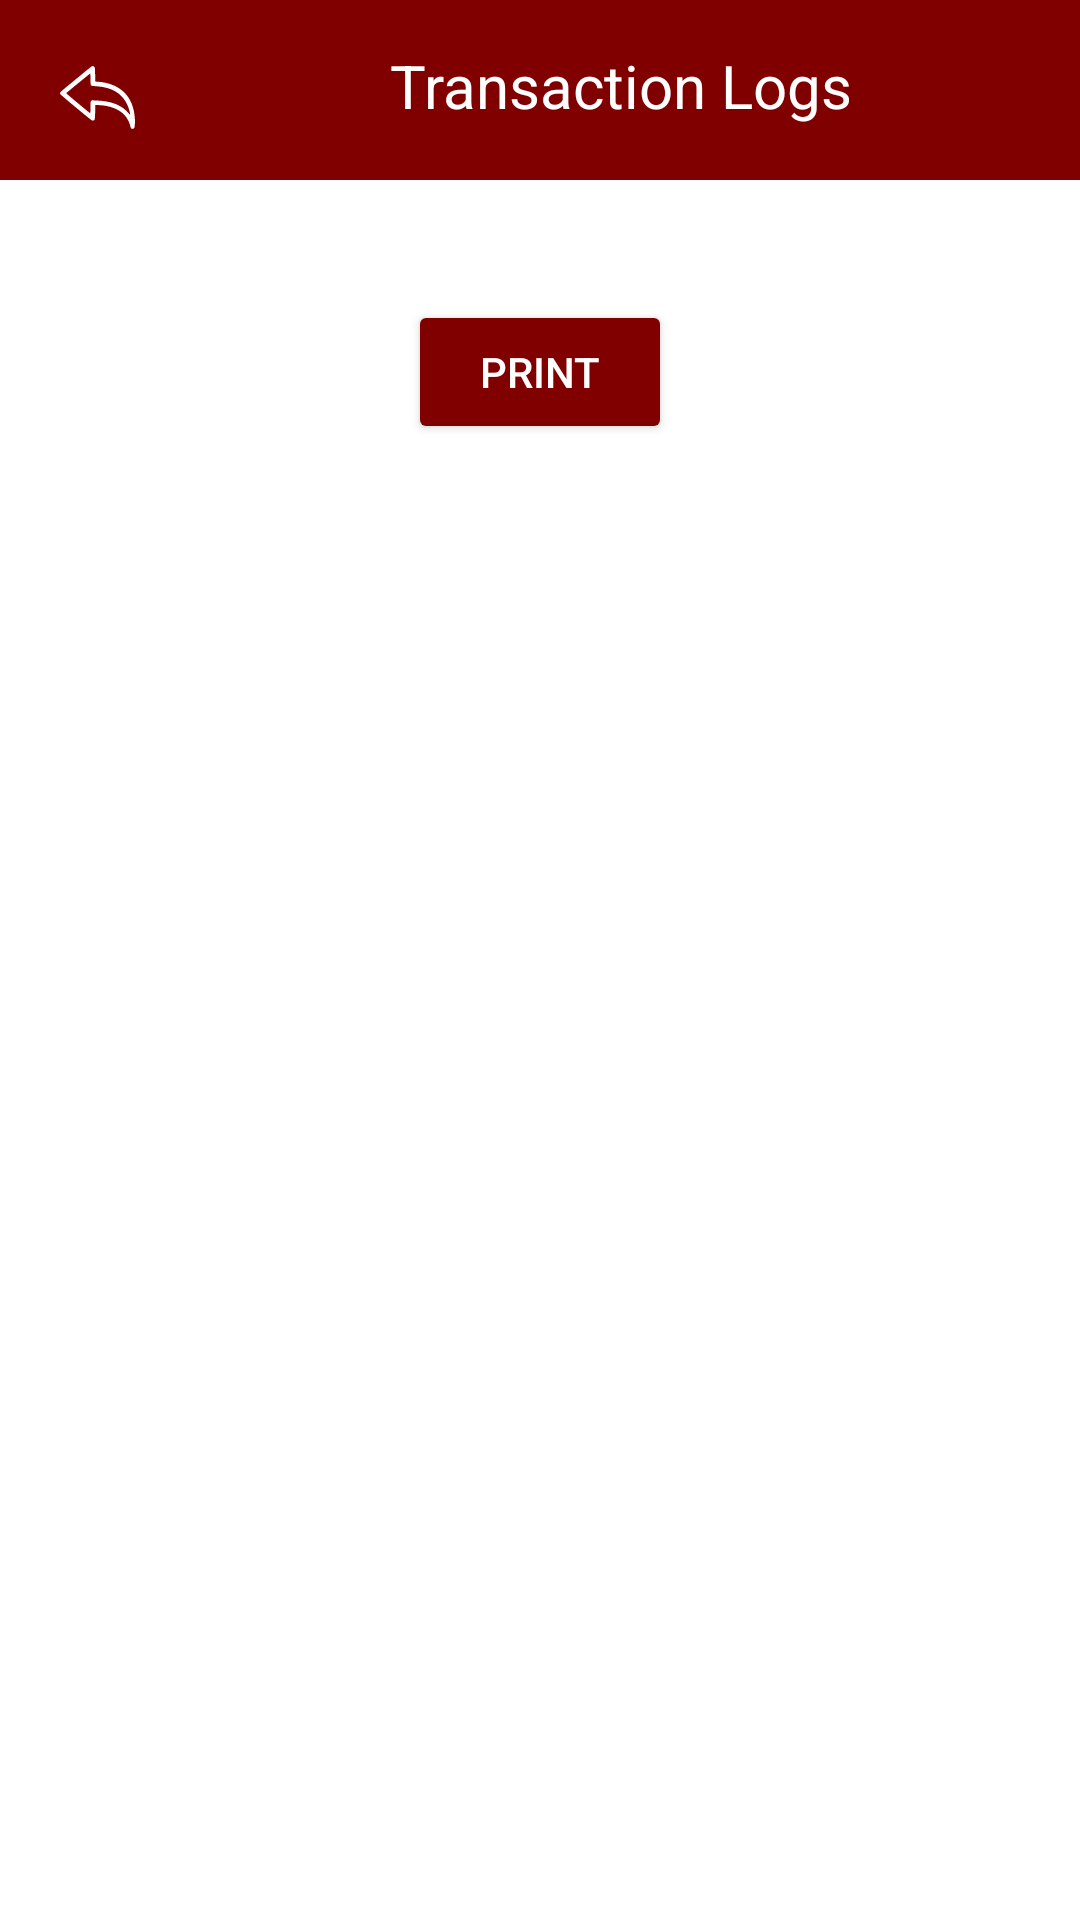

Icons on this 1080x1920 Android screen, each with the point to tap as [x,y]:
back: [97,97]
